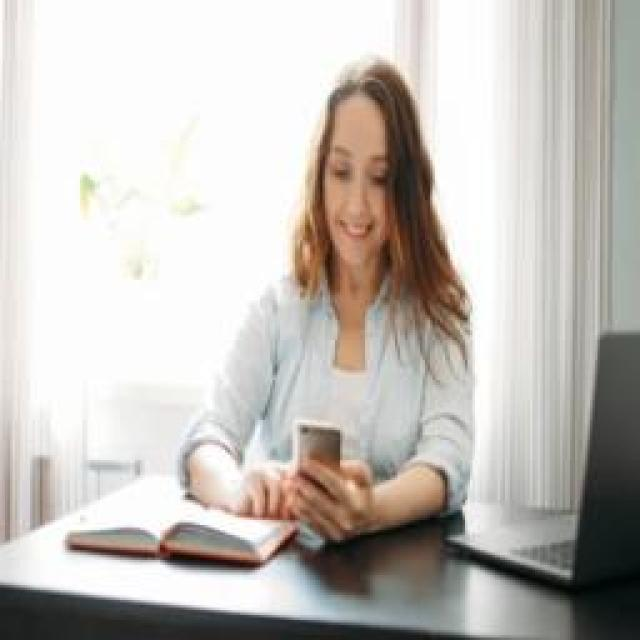phone: (175, 58, 470, 532)
